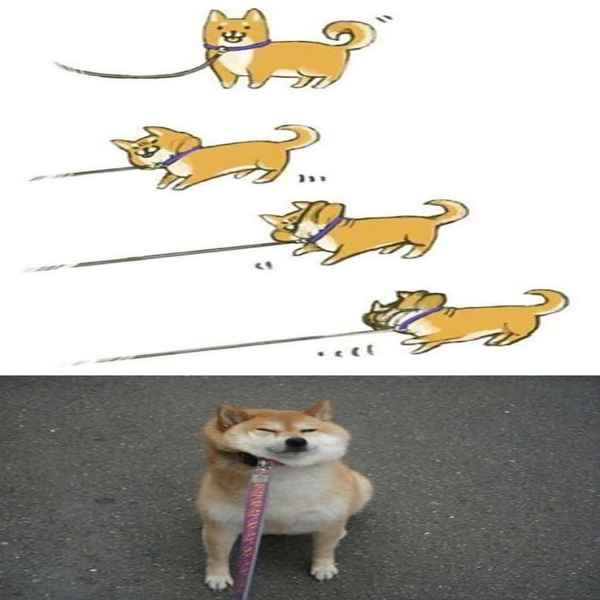doge: (214, 396, 356, 481), (113, 119, 198, 175), (204, 10, 273, 53)
